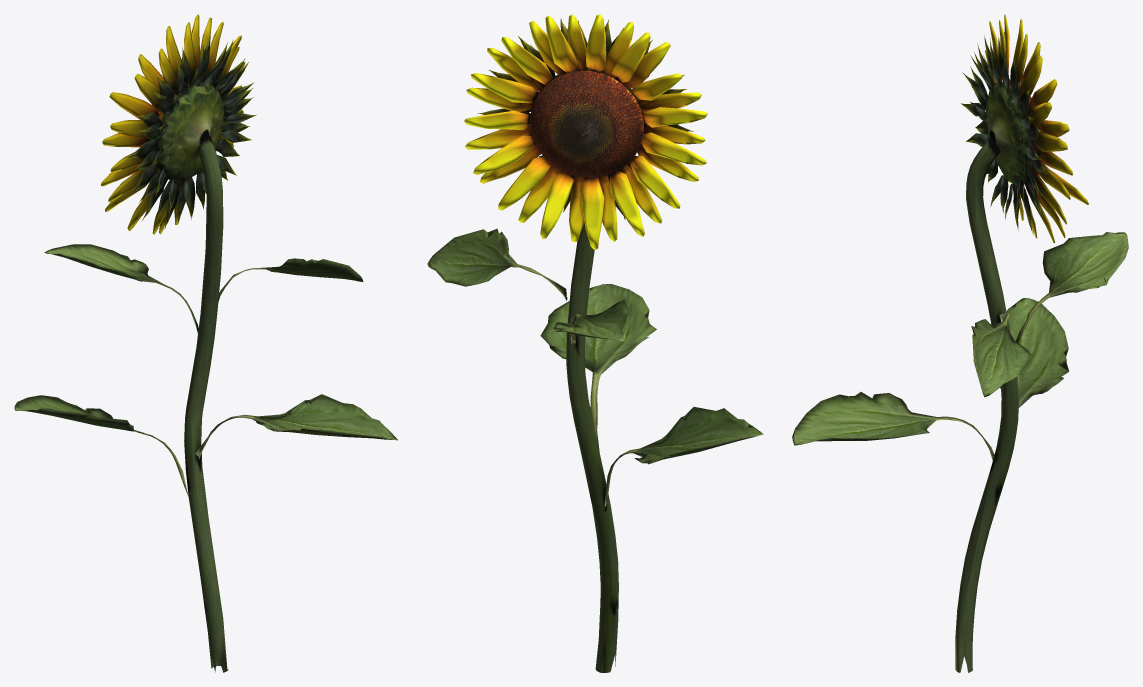
The model's file is Girasole04.fbx.
3 renders of one model, left to right at view 1: azimuth 30°, elevation 25°; view 2: azimuth 150°, elevation 25°; view 3: azimuth 270°, elevation 25°, orthographic. The views are drawn at different scales.
Visible parts, largest first — view 1: Girasole04; view 2: Girasole04; view 3: Girasole04.
Part boxes in pixels (x1=…): Girasole04: x1=14, y1=14, x2=397, y2=672; Girasole04: x1=427, y1=14, x2=763, y2=672; Girasole04: x1=792, y1=14, x2=1128, y2=672.
Size of the model in its own units: 29.44 by 53.8 by 25.66.
